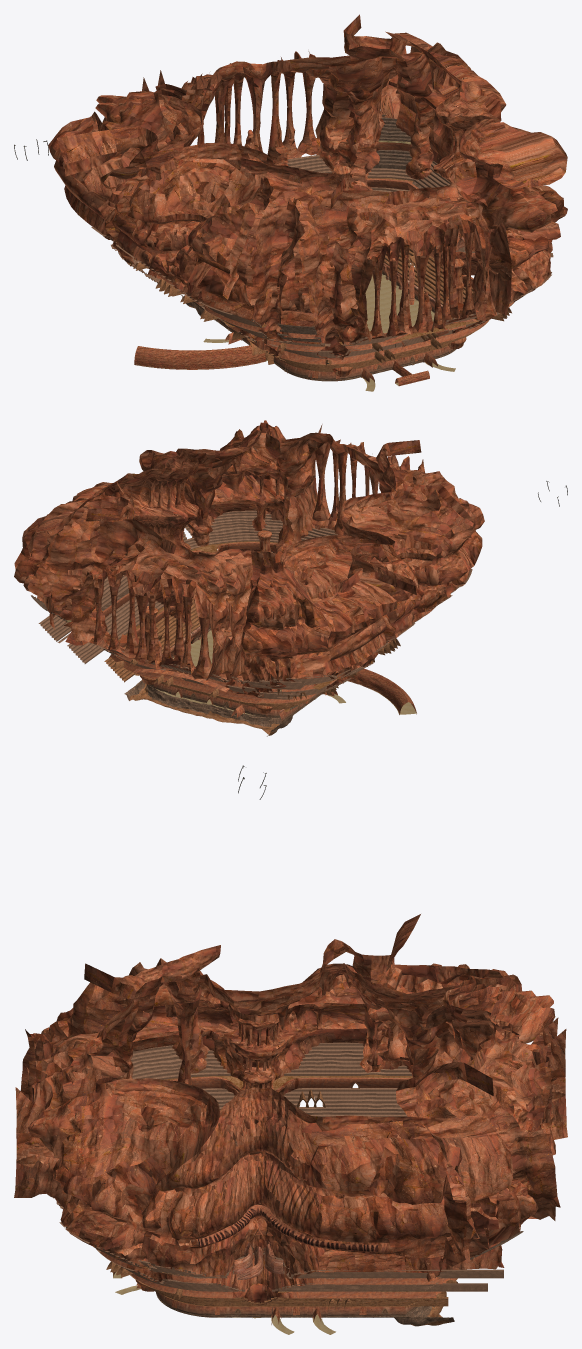
The model's file is geonosis.glb.
The picture shows the model from 3 angles, top to bottom: view 1: azimuth 30°, elevation 25°; view 2: azimuth 150°, elevation 25°; view 3: azimuth 270°, elevation 25°; orthographic projection. The views are drawn at different scales.
Parts seen in each view (by area): view 1: RockSidingP1.001_Material.071_0, RockSidingP1_Material.027_0, RockSidingP2_Material.071_0, RockSidingP3_Material.030_0, FrontEntrance.066_Material.063_0, Stairs.006_Material.003_0, Stairs.004_Material.029_0, Floor.002_Material.002_0, Stairs.007_Material.061_0, WallsArena.041_Material.006_0, RockSidingP3.001_Material.078_0, Stairs.003_Material.047_0 (+1 smaller); view 2: RockSidingP1.001_Material.071_0, RockSidingP1_Material.027_0, RockSidingP2_Material.071_0, Stairs.008_Material.031_0, RockSidingP3_Material.030_0, Stairs.009_Material.032_0, Stairs.006_Material.003_0, Floor_Material.077_0, FrontEntrance.066_Material.063_0, Stairs.004_Material.029_0, Floor.002_Material.002_0, Floor.001_Material.204_0 (+2 smaller); view 3: RockSidingP1.001_Material.071_0, RockSidingP2_Material.071_0, RockSidingP1_Material.027_0, Stairs.003_Material.047_0, RockSidingP3_Material.030_0, Stairs.009_Material.032_0, Stairs.006_Material.003_0, WallsArena.041_Material.006_0, Stairs.005_Material.055_0, RockSidingP2.014_Material.203_0, Stairs.008_Material.031_0.
Boxes of the visible parts, x1,y1,x2,y2 form: RockSidingP1.001_Material.071_0: (48,14,550,344); RockSidingP1_Material.027_0: (184,118,567,361); RockSidingP2_Material.071_0: (416,42,567,297); RockSidingP3_Material.030_0: (148,142,513,364); FrontEntrance.066_Material.063_0: (134,345,265,369); Stairs.006_Material.003_0: (247,247,489,371); Stairs.004_Material.029_0: (262,155,479,358); Floor.002_Material.002_0: (136,274,455,391); Stairs.007_Material.061_0: (277,114,411,342); WallsArena.041_Material.006_0: (199,262,456,381); RockSidingP3.001_Material.078_0: (133,255,511,367); Stairs.003_Material.047_0: (91,168,414,346); RockSidingP1.001_Material.071_0: (14,481,482,697); RockSidingP1_Material.027_0: (176,420,484,611); RockSidingP2_Material.071_0: (14,448,198,625); Stairs.008_Material.031_0: (183,510,373,699); RockSidingP3_Material.030_0: (65,542,433,703); Stairs.009_Material.032_0: (38,575,163,663); Stairs.006_Material.003_0: (104,598,311,709); Floor_Material.077_0: (124,680,293,732); FrontEntrance.066_Material.063_0: (347,668,416,714); Stairs.004_Material.029_0: (96,526,337,693); Floor.002_Material.002_0: (156,630,416,715); Floor.001_Material.204_0: (129,684,289,736); RockSidingP1.001_Material.071_0: (60,914,567,1281); RockSidingP2_Material.071_0: (155,1087,478,1305); RockSidingP1_Material.027_0: (14,945,243,1284); Stairs.003_Material.047_0: (201,1042,441,1278); RockSidingP3_Material.030_0: (97,1076,536,1298); Stairs.009_Material.032_0: (272,1269,503,1291); Stairs.006_Material.003_0: (130,1274,457,1308); WallsArena.041_Material.006_0: (156,1292,417,1317); Stairs.005_Material.055_0: (131,1045,230,1079); RockSidingP2.014_Material.203_0: (196,1204,378,1252); Stairs.008_Material.031_0: (59,1222,245,1291).
Bounding box in the file's own units: 119 × 61.12 × 92.99.
Materials: 60 (54 with a texture image).
